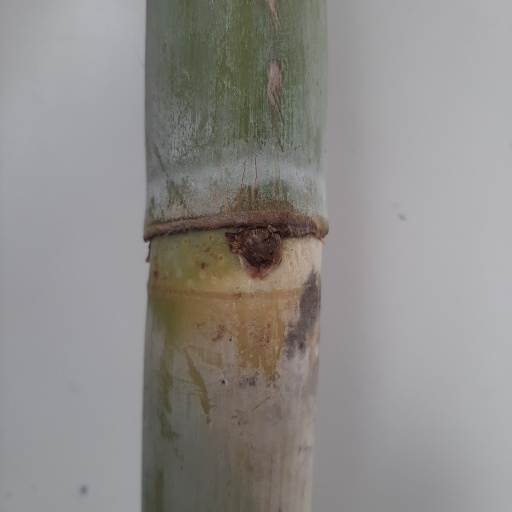Bud: (235, 226, 279, 270)
